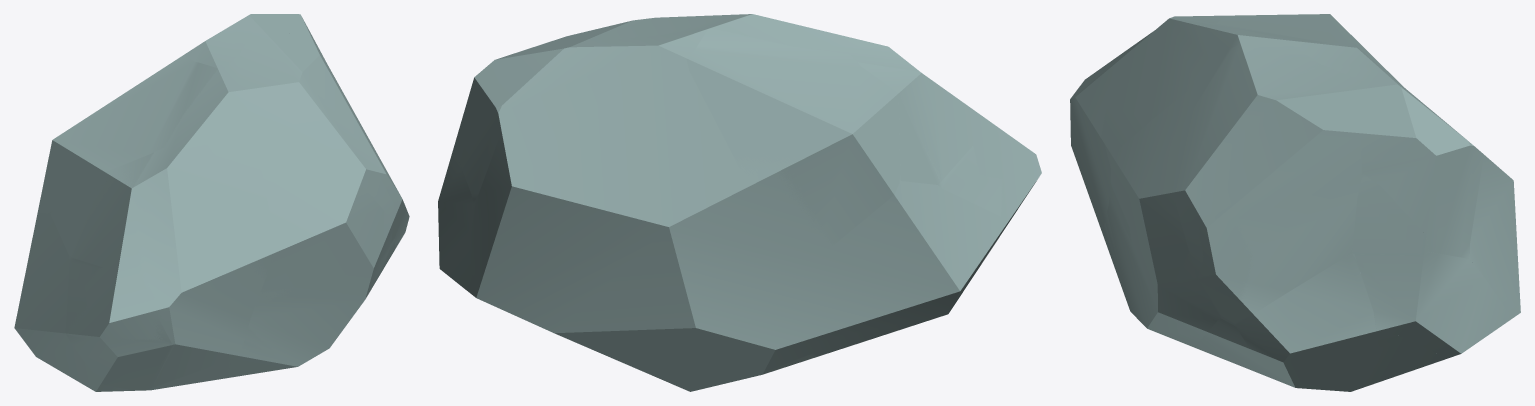
The model's file is breakRock1.fbx.
3 views of the same model, side by side, from view 1: azimuth 30°, elevation 25°; view 2: azimuth 150°, elevation 25°; view 3: azimuth 270°, elevation 25° (orthographic). The views are drawn at different scales.
Visible parts, largest first — view 1: rock1, rock1_cell.003, rock1_cell.004, rock1_cell.013, rock1_cell.001, rock1_cell.002, rock1_cell.006, rock1_cell; view 2: rock1, rock1_cell.001, rock1_cell, rock1_cell.003, rock1_cell.010, rock1_cell.008, rock1_cell.011, rock1_cell.013, rock1_cell.002, rock1_cell.006; view 3: rock1_cell.013, rock1_cell.004, rock1_cell.009, rock1_cell, rock1_cell.010, rock1, rock1_cell.003, rock1_cell.008, rock1_cell.001, rock1_cell.007, rock1_cell.011, rock1_cell.006.
Boxes of the visible parts, left/top/right/bottom form: rock1: left=14, top=41, right=404, bottom=391; rock1_cell.003: left=50, top=124, right=275, bottom=390; rock1_cell.004: left=214, top=145, right=392, bottom=380; rock1_cell.013: left=221, top=28, right=405, bottom=240; rock1_cell.001: left=37, top=55, right=240, bottom=213; rock1_cell.002: left=65, top=256, right=172, bottom=390; rock1_cell.006: left=205, top=25, right=255, bottom=71; rock1_cell: left=234, top=14, right=321, bottom=53; rock1: left=471, top=14, right=1041, bottom=373; rock1_cell.001: left=686, top=14, right=900, bottom=245; rock1_cell: left=456, top=41, right=600, bottom=203; rock1_cell.003: left=858, top=62, right=941, bottom=184; rock1_cell.010: left=438, top=152, right=473, bottom=293; rock1_cell.008: left=471, top=46, right=610, bottom=297; rock1_cell.011: left=611, top=353, right=817, bottom=391; rock1_cell.013: left=539, top=14, right=737, bottom=45; rock1_cell.002: left=938, top=146, right=1024, bottom=230; rock1_cell.006: left=589, top=26, right=711, bottom=46; rock1_cell.013: left=1173, top=41, right=1371, bottom=323; rock1_cell.004: left=1104, top=84, right=1221, bottom=347; rock1_cell.009: left=1235, top=254, right=1446, bottom=391; rock1_cell: left=1360, top=72, right=1483, bottom=258; rock1_cell.010: left=1354, top=252, right=1512, bottom=358; rock1: left=1070, top=15, right=1469, bottom=352; rock1_cell.003: left=1070, top=15, right=1225, bottom=168; rock1_cell.008: left=1378, top=67, right=1520, bottom=318; rock1_cell.001: left=1200, top=14, right=1395, bottom=79; rock1_cell.007: left=1352, top=173, right=1428, bottom=255; rock1_cell.011: left=1194, top=318, right=1312, bottom=389; rock1_cell.006: left=1286, top=41, right=1380, bottom=256.
Size of the model in its own units: 1688 by 1172 by 1480.
